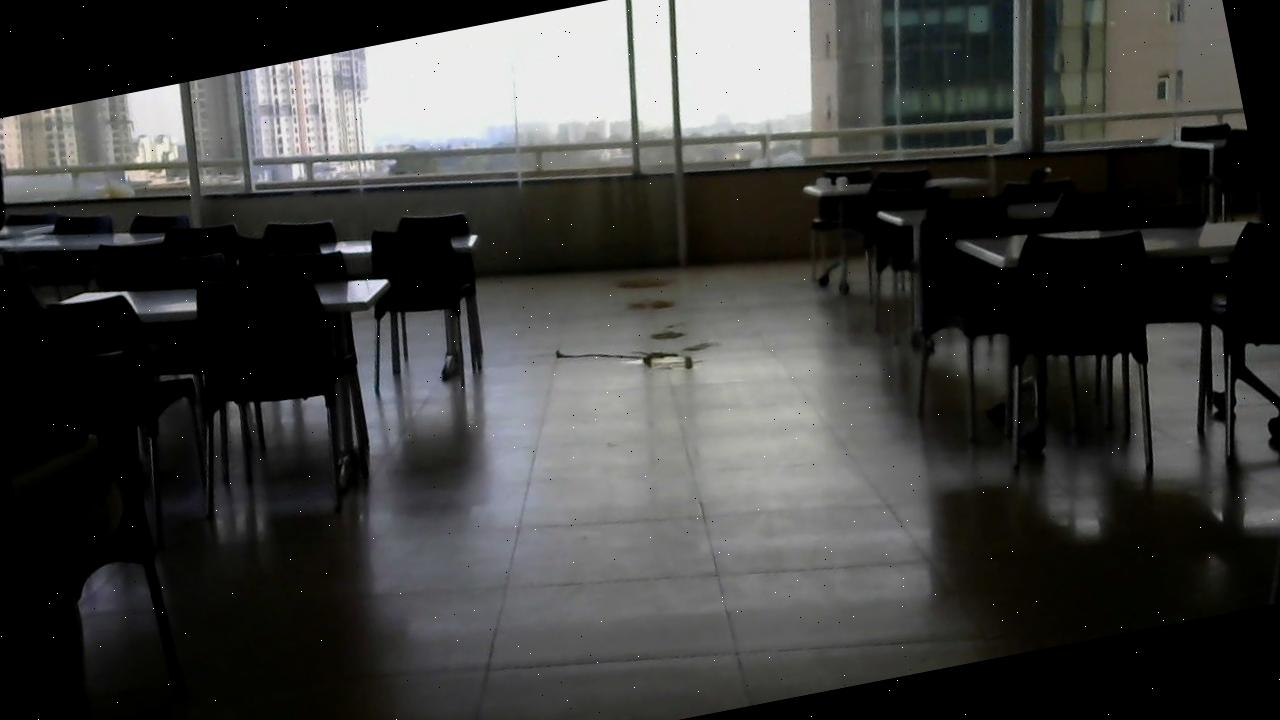dirty_floor: (548, 313, 728, 398), (620, 288, 683, 322), (610, 267, 678, 297)
